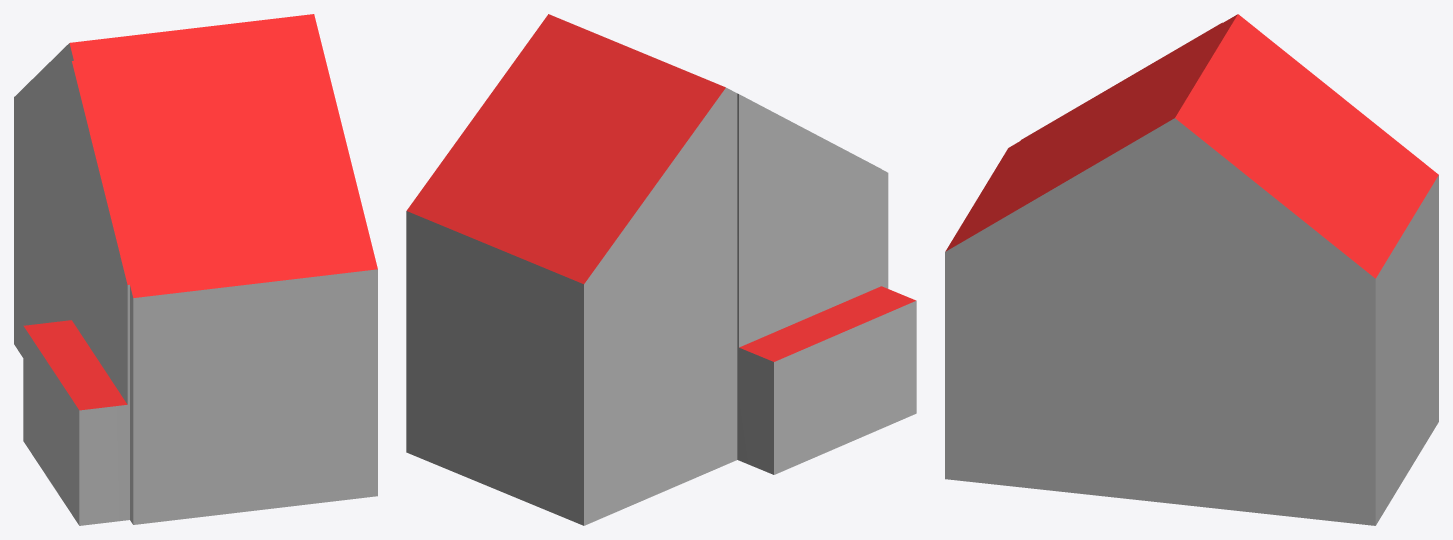
The model's file is DEBY_LOD2_4729062.dae.
The picture shows the model from 3 angles, left to right: view 1: azimuth 30°, elevation 25°; view 2: azimuth 150°, elevation 25°; view 3: azimuth 270°, elevation 25°; orthographic projection. The views are drawn at different scales.
Bounding box in the file's own units: 9.17 × 11.19 × 9.65.
